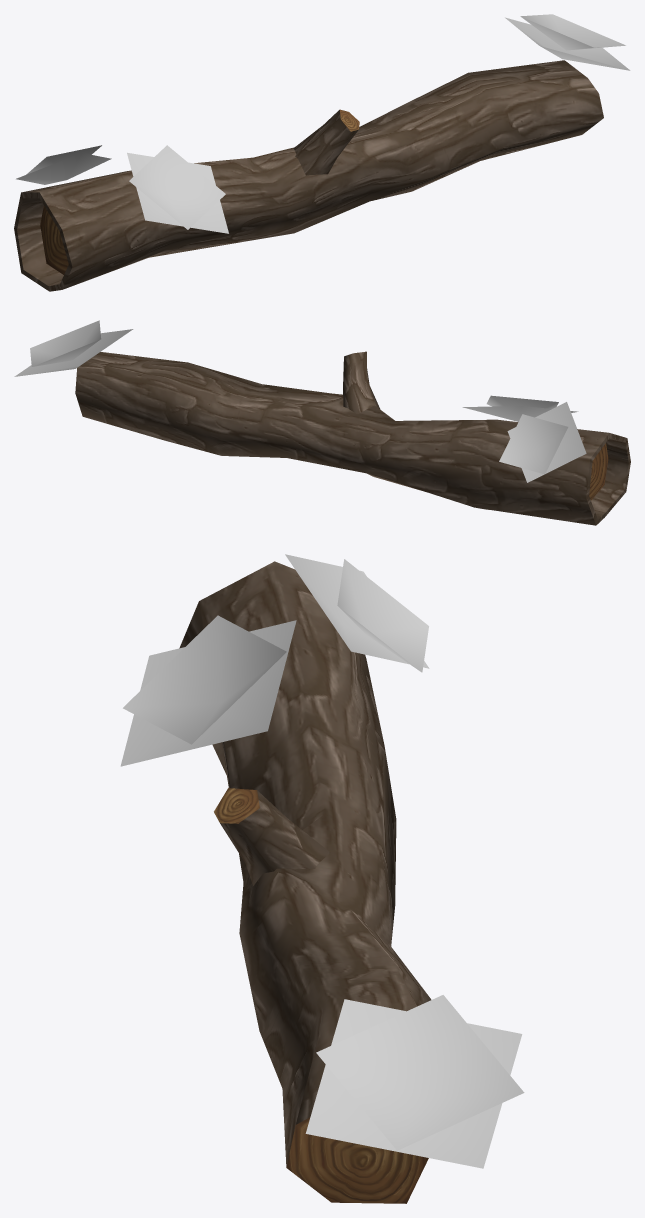
Rendered from Tree_Fall3.fbx.
3 renders of one model, top to bottom at view 1: azimuth 30°, elevation 25°; view 2: azimuth 150°, elevation 25°; view 3: azimuth 270°, elevation 25°, orthographic. The views are drawn at different scales.
Visible parts, largest first — view 1: polySurface158; view 2: polySurface158; view 3: polySurface158.
Boxes of the visible parts, box(x1,y1,x2,y2) form: polySurface158: box(14, 14, 630, 291); polySurface158: box(14, 320, 630, 525); polySurface158: box(120, 554, 524, 1203).
Size of the model in its own units: 3.77 by 0.7818 by 1.2.
